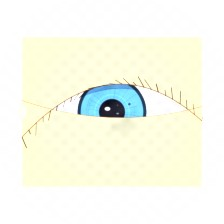pinguecula_lesion: (156, 88, 206, 128)
